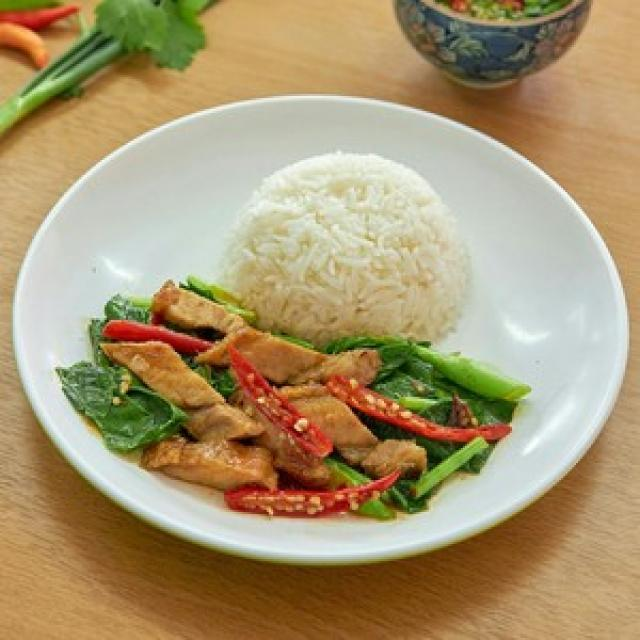cac loai rau cu: (337, 377, 516, 447), (234, 344, 329, 464), (65, 357, 181, 453), (90, 294, 212, 367), (394, 344, 534, 403), (214, 475, 404, 515), (425, 428, 505, 502), (185, 268, 241, 302)
com: (228, 152, 474, 339)
com chien cai xoan: (73, 160, 535, 524)
thit heo: (113, 336, 263, 445), (93, 332, 230, 412), (265, 388, 353, 507), (140, 428, 289, 494), (303, 332, 381, 390), (340, 433, 426, 483)
